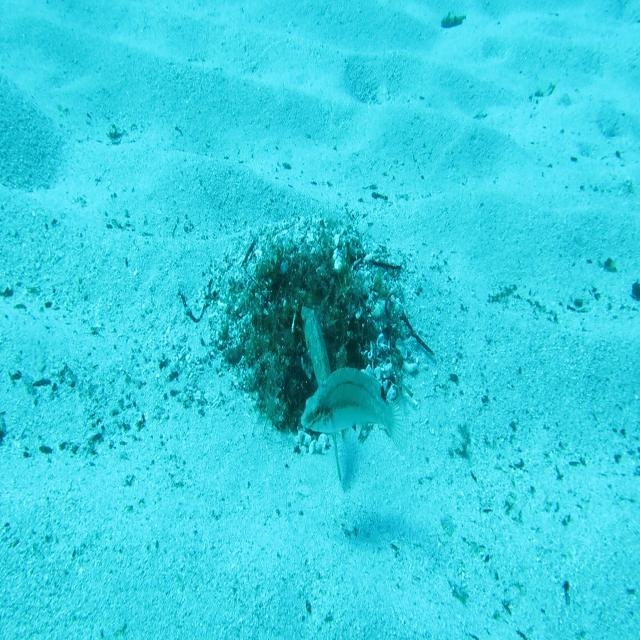FAN: (299, 303, 344, 486)
core_nest: (284, 264, 331, 304)
female: (299, 363, 412, 457)
nest: (202, 204, 424, 456)
vegetation: (441, 10, 465, 28)
